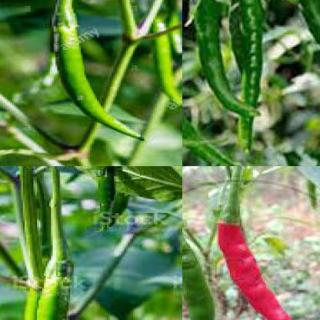green_chilli: (48, 10, 146, 144), (182, 12, 243, 166), (186, 0, 262, 122), (0, 256, 92, 319), (226, 0, 264, 152), (182, 191, 218, 319), (149, 18, 182, 108), (89, 166, 122, 229), (287, 0, 319, 58), (10, 276, 41, 320), (168, 0, 182, 55)
